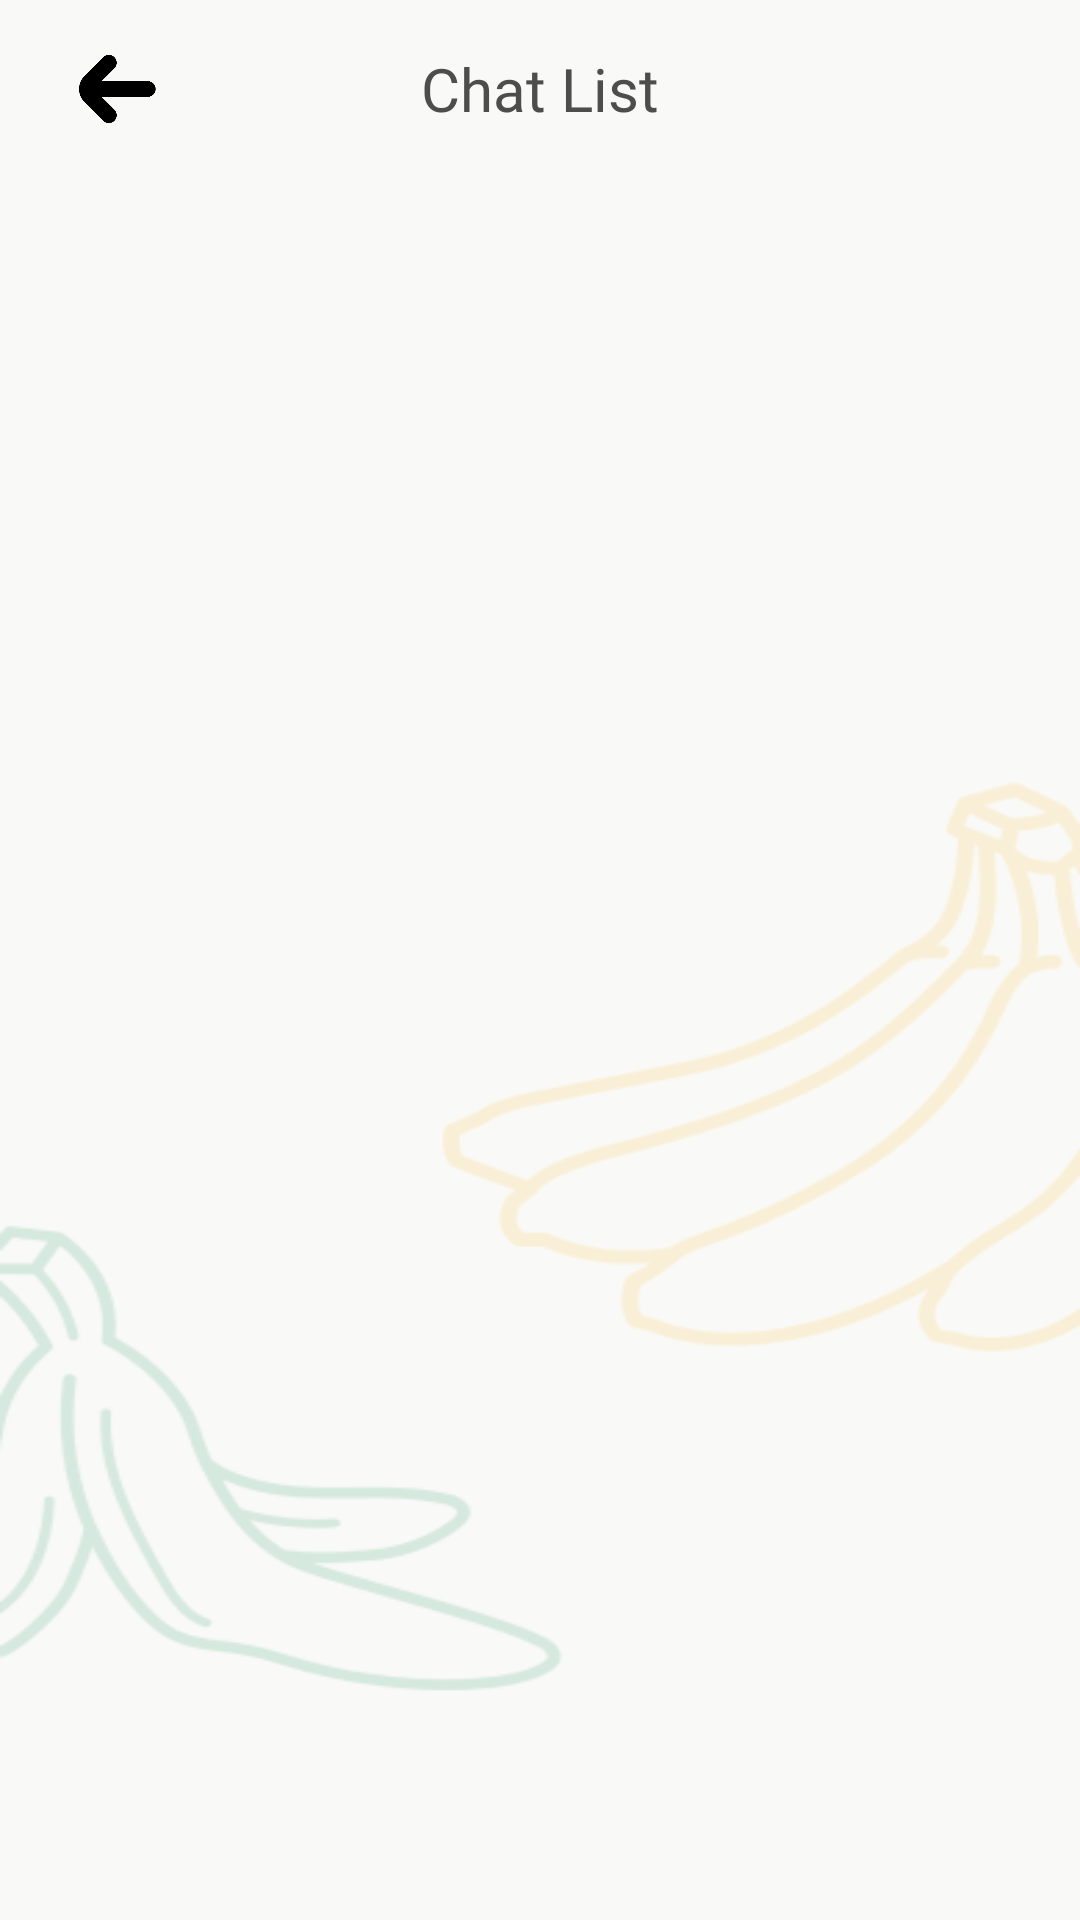

Named icons in this screenshot (1080 × 1920) and their centers, (x=x, y=y):
back: (x=117, y=89)
